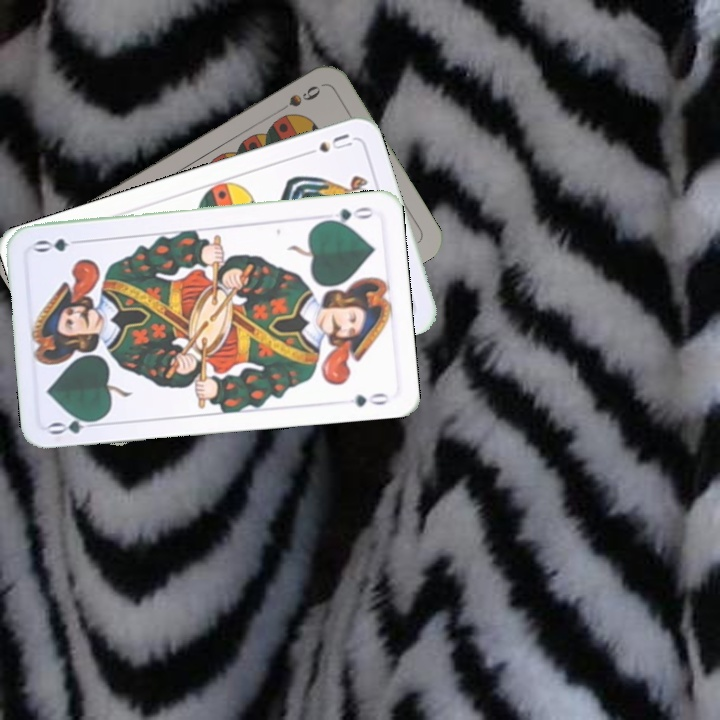GO: (45, 411, 105, 437), (318, 203, 375, 227)
S9: (284, 81, 323, 110)
SU: (298, 129, 355, 159)
